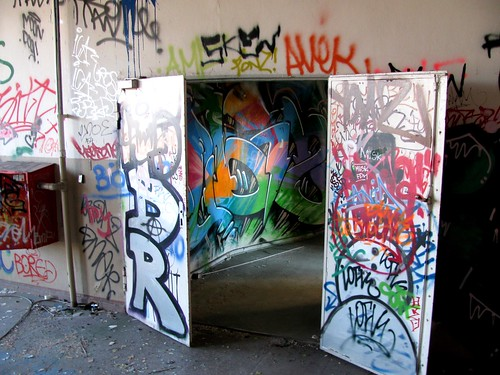door: (329, 67, 440, 375), (124, 77, 188, 327)
graffiti: (327, 78, 424, 375), (184, 81, 330, 268), (1, 1, 367, 74), (1, 69, 119, 295), (119, 79, 191, 338)
